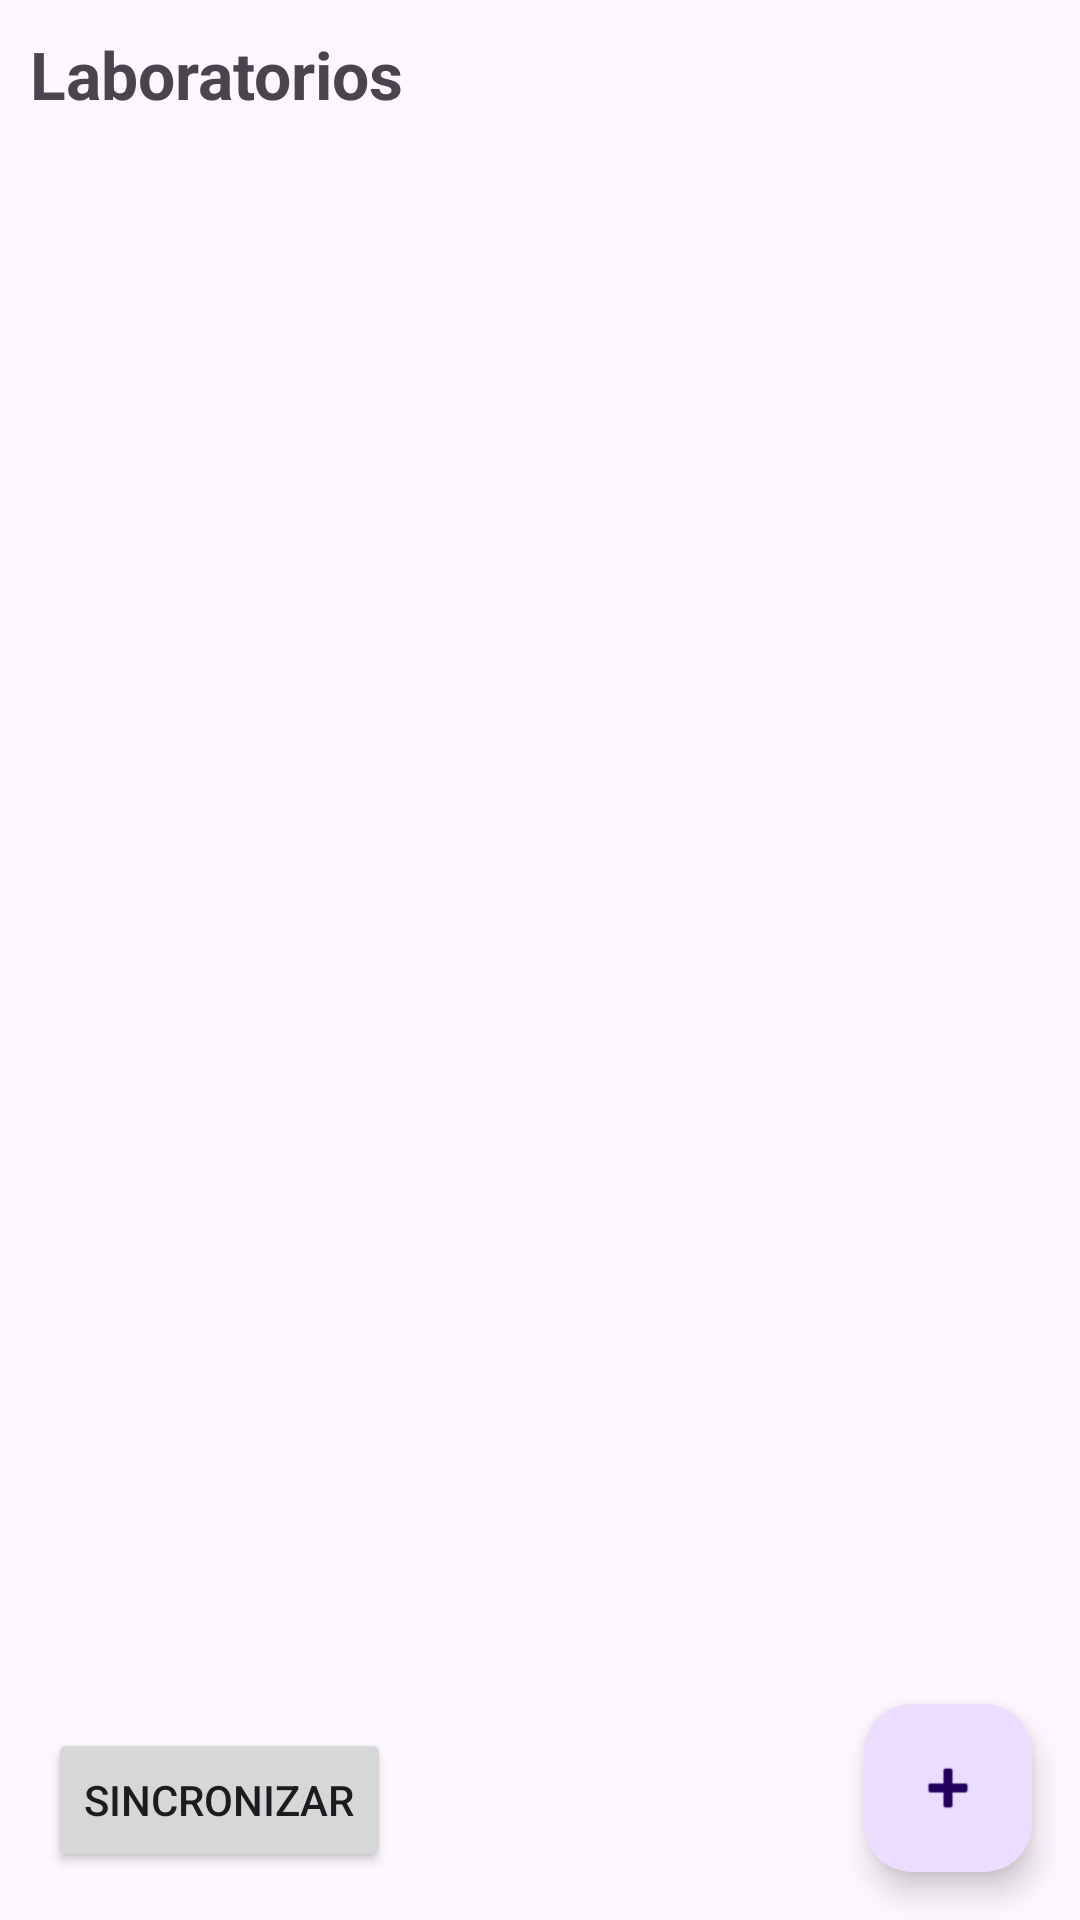

Locate icon controls on the screen. Image size 1080 x 1920, boxes as (x1, y1, x2, y2).
Agregar laboratorio: (864, 1704, 1032, 1872)
